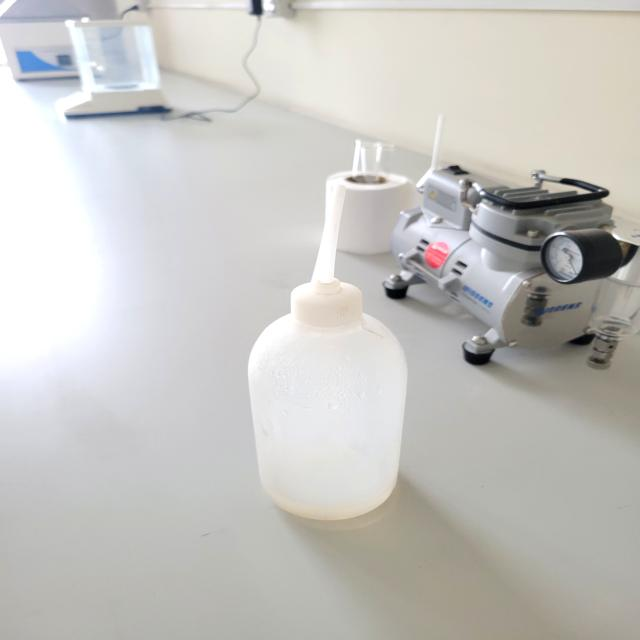Wash_Bottle: (243, 177, 444, 533)
